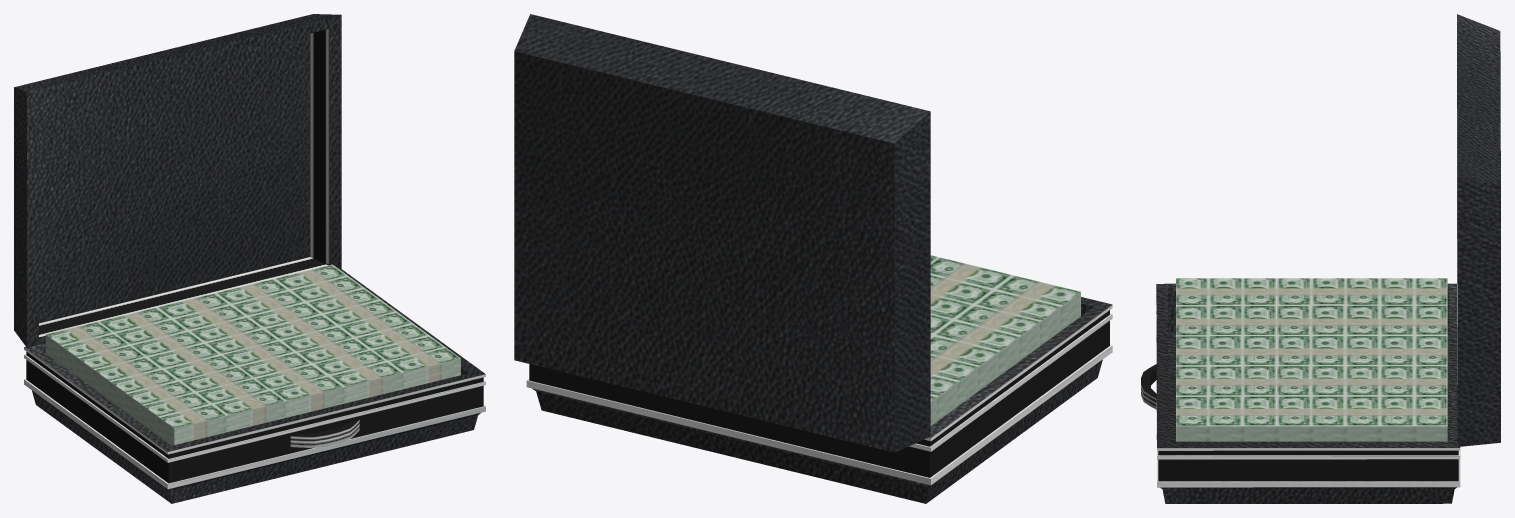
Rendered from briefcase_with_money.glb.
3 views of the same model, side by side, from view 1: azimuth 30°, elevation 25°; view 2: azimuth 150°, elevation 25°; view 3: azimuth 270°, elevation 25° (orthographic). The views are drawn at different scales.
Visible parts, largest first — view 1: Cubo.001; view 2: Cubo.001; view 3: Cubo.001.
Boxes of the visible parts, x1=… form: Cubo.001: x1=14, y1=14, x2=485, y2=503; Cubo.001: x1=514, y1=14, x2=1112, y2=503; Cubo.001: x1=1141, y1=14, x2=1500, y2=503.
Size of the model in its own units: 0.6846 by 0.6419 by 0.6335.
Materials: 1 (1 with a texture image).
